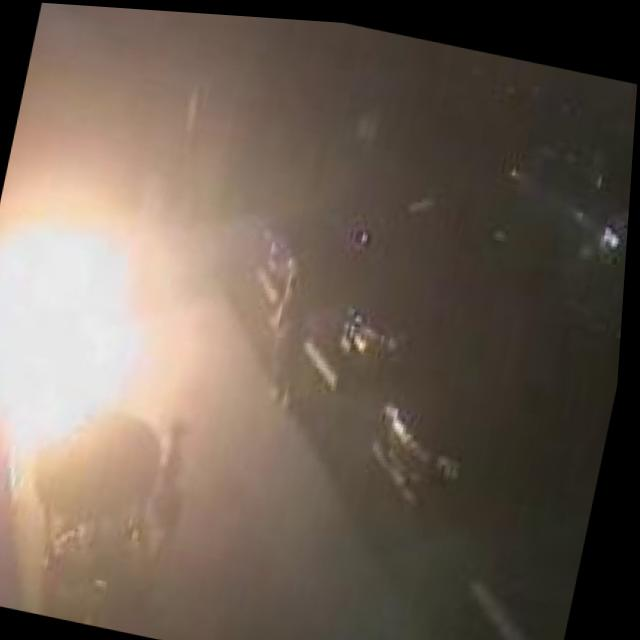fire: (0, 171, 204, 492)
